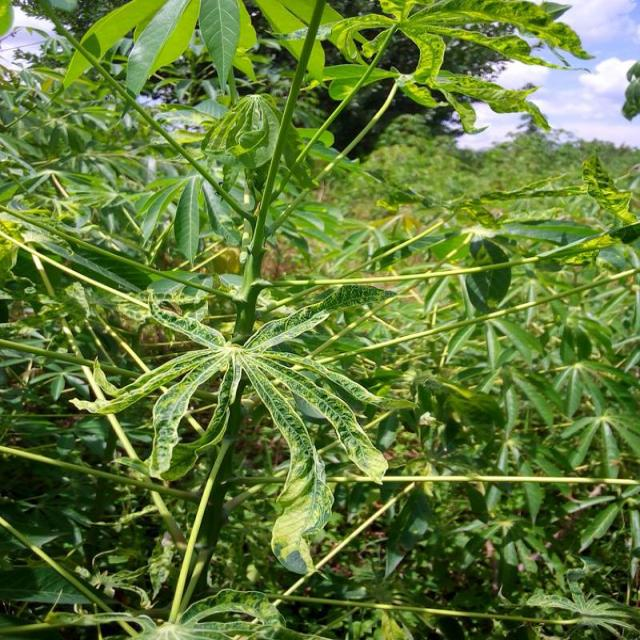cassava leaf: (465, 236, 513, 314)
